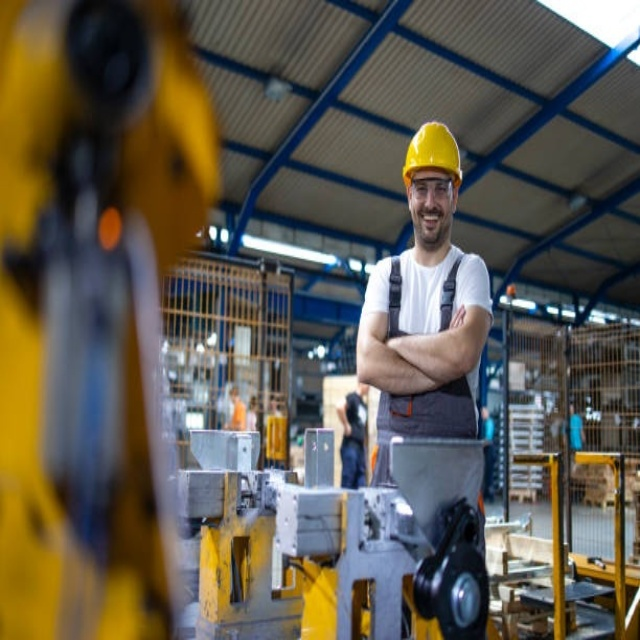Gafas: (409, 173, 453, 201)
Sin_mascara: (417, 212, 442, 238)
